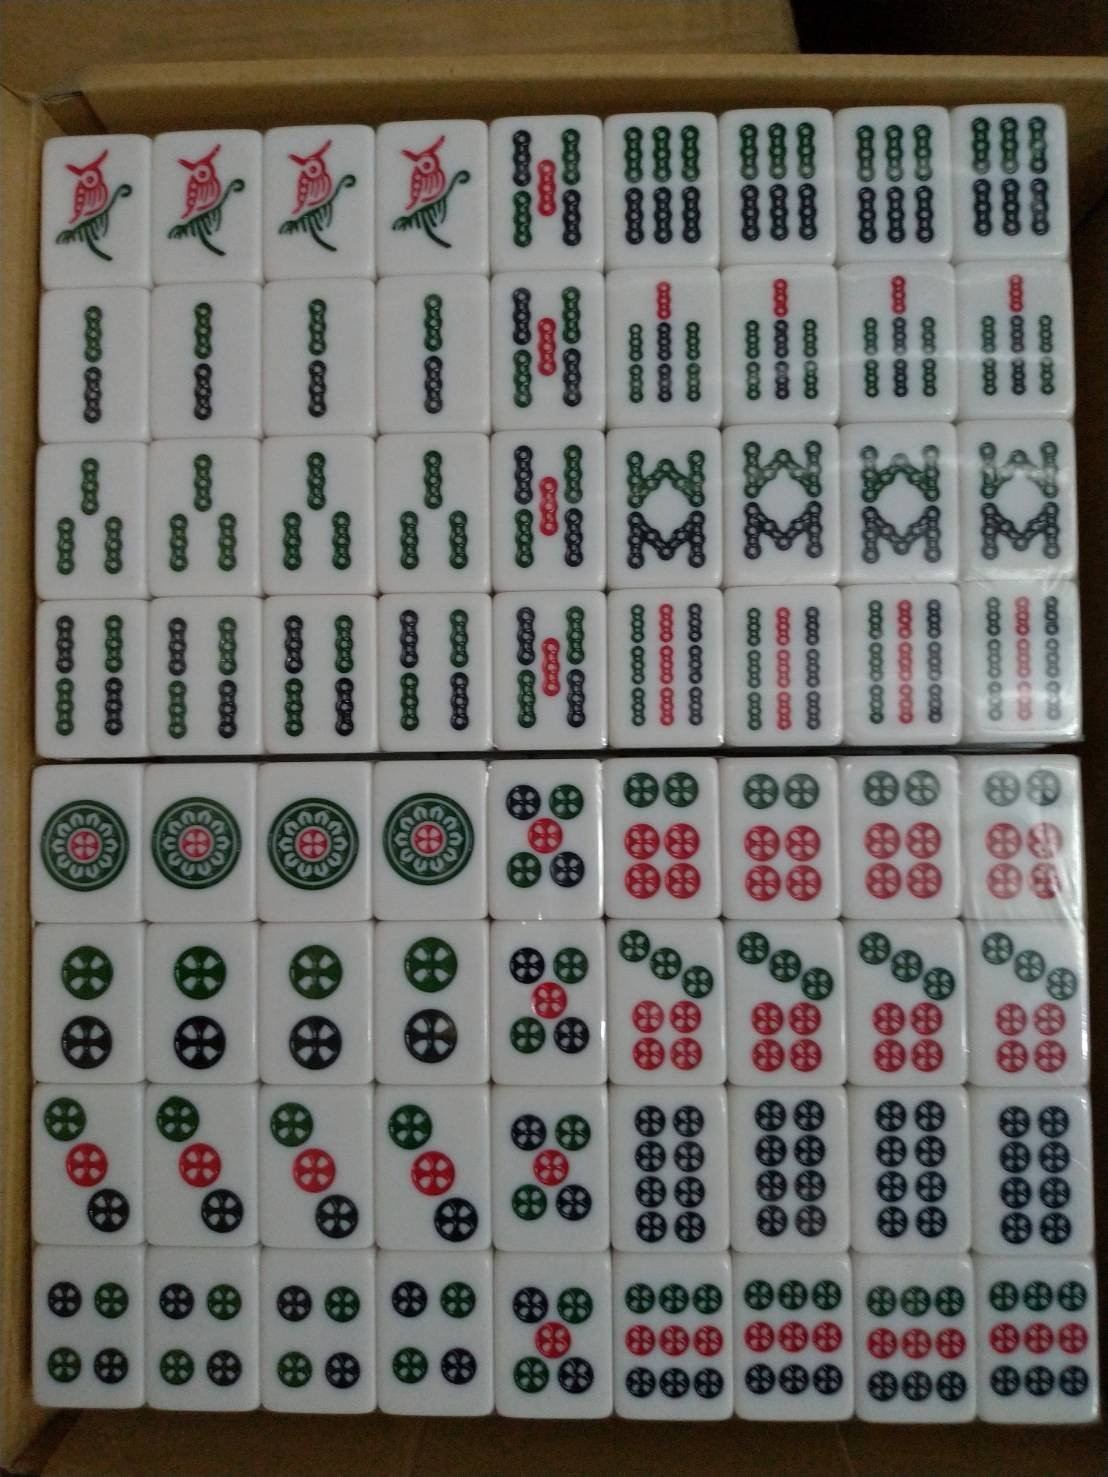1i: (42, 135, 142, 277), (162, 137, 250, 269), (385, 132, 476, 258), (278, 132, 361, 267)
1o: (261, 767, 364, 918), (147, 772, 253, 907), (379, 766, 481, 903), (31, 775, 132, 906)
2i: (52, 294, 130, 432), (284, 283, 347, 427), (404, 283, 464, 422), (175, 287, 227, 424)
2o: (138, 915, 264, 1094), (250, 921, 379, 1086), (41, 933, 132, 1084), (390, 926, 468, 1077)
3i: (44, 447, 138, 580), (396, 441, 480, 583), (272, 446, 358, 581), (161, 449, 246, 580)
3o: (372, 1091, 485, 1254), (142, 1084, 253, 1247), (262, 1089, 364, 1244), (40, 1094, 136, 1234)
4i: (155, 606, 253, 747), (270, 606, 362, 738), (47, 608, 136, 741), (392, 598, 475, 738)
4o: (361, 1247, 505, 1420), (381, 1269, 496, 1406), (145, 1269, 247, 1403), (41, 1263, 138, 1397), (272, 1261, 361, 1401)
5i: (502, 272, 598, 416), (505, 432, 594, 577), (505, 597, 599, 732), (504, 125, 594, 253)
5o: (478, 913, 622, 1098), (484, 752, 610, 931), (507, 1278, 608, 1406), (502, 1105, 596, 1229)
6i: (730, 115, 832, 241), (847, 118, 942, 253), (963, 107, 1054, 244), (615, 114, 704, 254)
6o: (825, 741, 968, 926), (959, 746, 1093, 926), (604, 750, 730, 926), (736, 760, 828, 911), (976, 766, 1065, 911)
7i: (845, 271, 944, 411), (618, 271, 712, 409), (963, 275, 1059, 409), (733, 274, 824, 411)
7o: (832, 917, 979, 1092), (967, 914, 1093, 1091), (727, 921, 838, 1078), (615, 924, 720, 1077)
8i: (725, 429, 833, 567), (967, 426, 1068, 571), (615, 435, 716, 574), (855, 427, 952, 569)
8o: (983, 1100, 1085, 1247), (745, 1087, 834, 1247), (864, 1092, 952, 1247), (627, 1098, 715, 1247)
9i: (736, 591, 832, 738), (853, 594, 949, 734), (979, 587, 1070, 732), (622, 597, 708, 732)
9o: (964, 1249, 1098, 1423), (732, 1247, 862, 1423), (855, 1264, 973, 1415), (618, 1267, 730, 1414)
